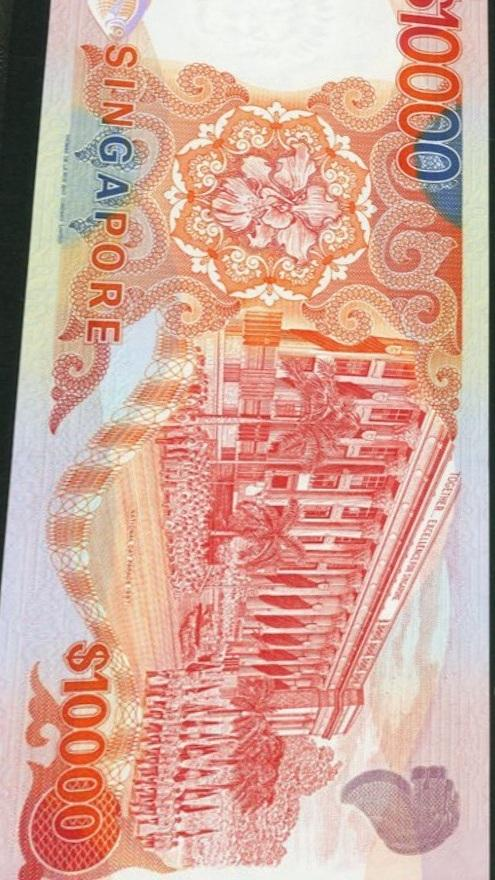10000SingaporeDollar: (0, 0, 485, 880)
